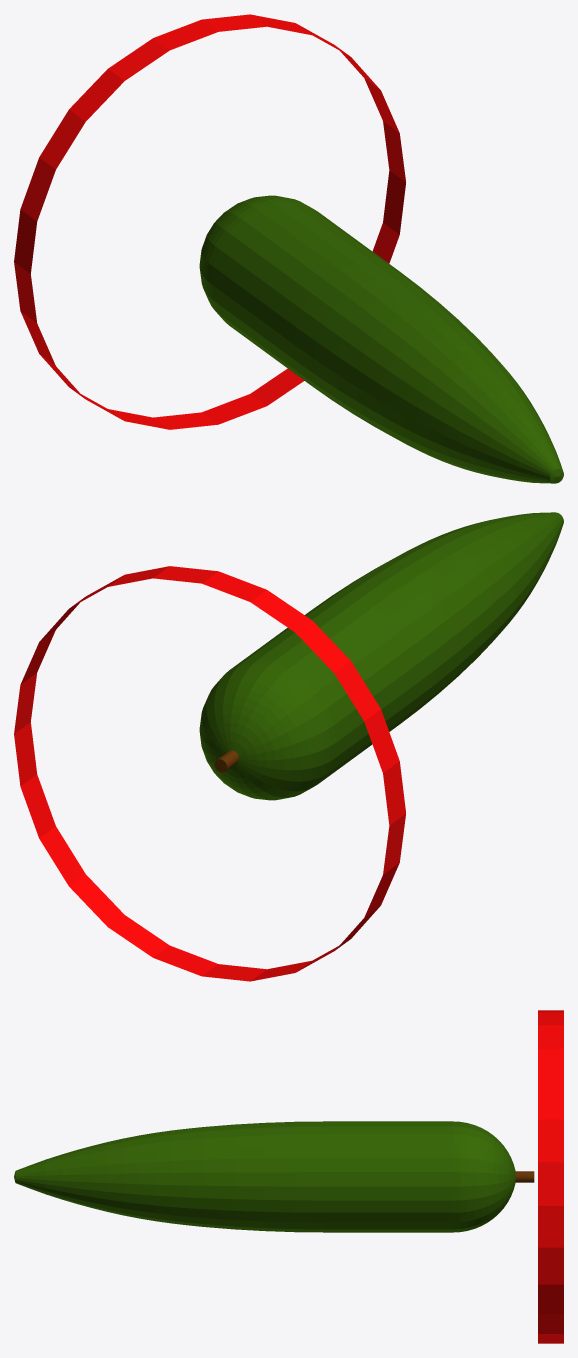
The model's file is LPKo14m.obj.
3 renders of one model, top to bottom at view 1: azimuth 30°, elevation 25°; view 2: azimuth 150°, elevation 25°; view 3: azimuth 270°, elevation 25°, orthographic. The views are drawn at different scales.
Bounding box in the file's own units: 9 × 9 × 14.8.
